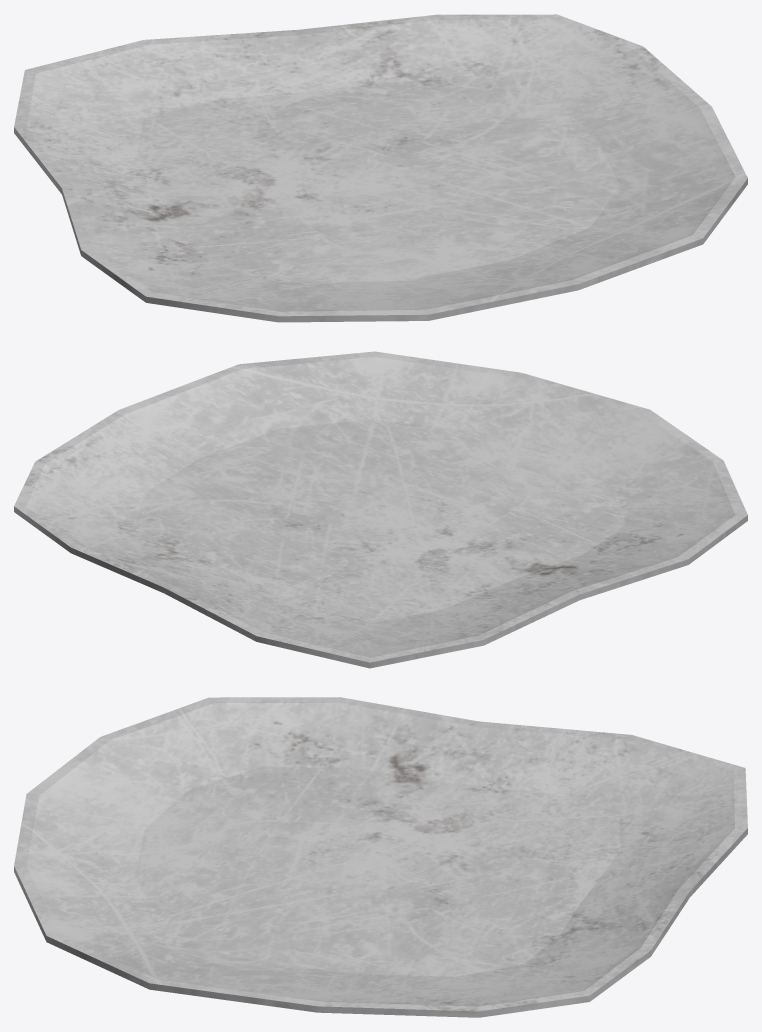
File: plate_4.fbx
3 views of the same model, one above another, from view 1: azimuth 30°, elevation 25°; view 2: azimuth 150°, elevation 25°; view 3: azimuth 270°, elevation 25° (orthographic). The views are drawn at different scales.
Parts seen in each view (by area): view 1: Plate_low.001; view 2: Plate_low.001; view 3: Plate_low.001.
Part boxes in pixels (left/top/right/bottom): Plate_low.001: left=14, top=14, right=747, bottom=322; Plate_low.001: left=14, top=351, right=747, bottom=668; Plate_low.001: left=14, top=697, right=747, bottom=1017.
Size of the model in its own units: 28.93 by 1.08 by 28.55.
